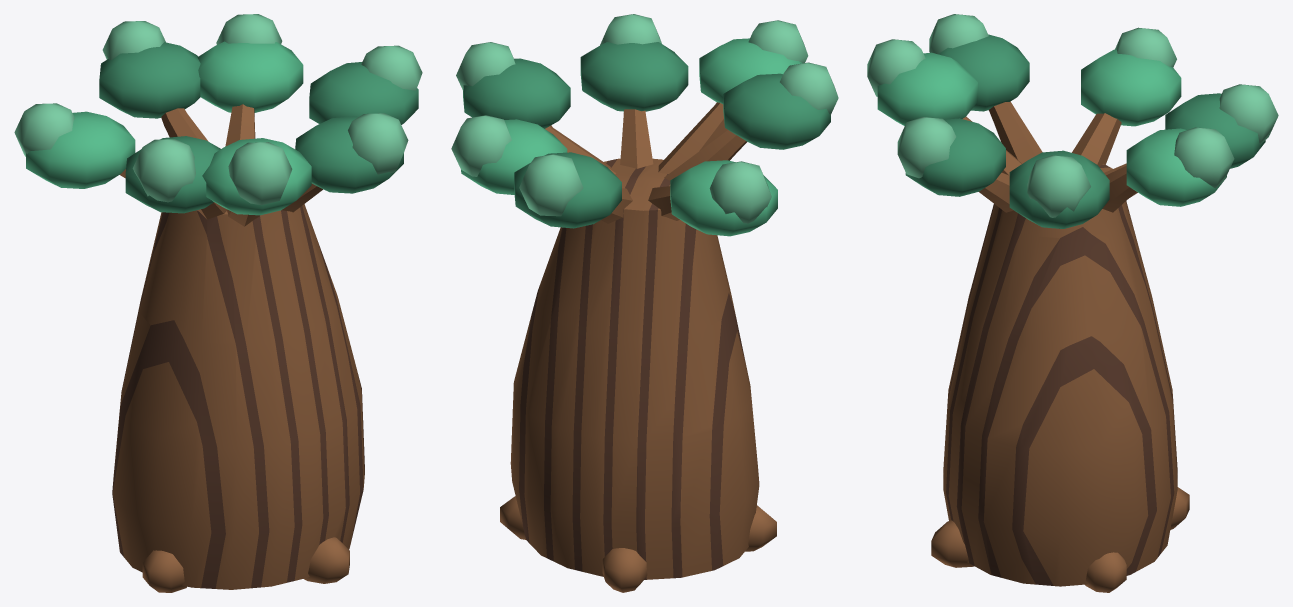
The model's file is W3_Baobab_A.fbx.
3 renders of one model, left to right at view 1: azimuth 30°, elevation 25°; view 2: azimuth 150°, elevation 25°; view 3: azimuth 270°, elevation 25°, orthographic.
Parts seen in each view (by area): view 1: W3_Baobab_A; view 2: W3_Baobab_A; view 3: W3_Baobab_A.
Boxes of the visible parts, x1=… form: W3_Baobab_A: x1=14, y1=14, x2=422, y2=592; W3_Baobab_A: x1=451, y1=14, x2=838, y2=592; W3_Baobab_A: x1=867, y1=14, x2=1278, y2=592.
Bounding box in the file's own units: 15.7 × 20.5 × 15.9.
